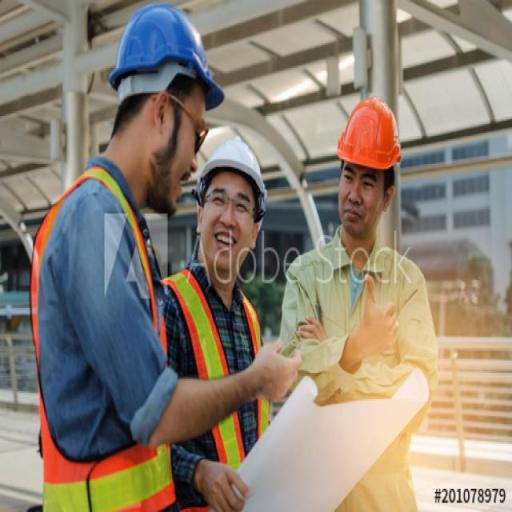helmet: (104, 0, 226, 121), (192, 128, 272, 210), (334, 88, 408, 175)
vest: (24, 169, 177, 512), (162, 256, 276, 483)
